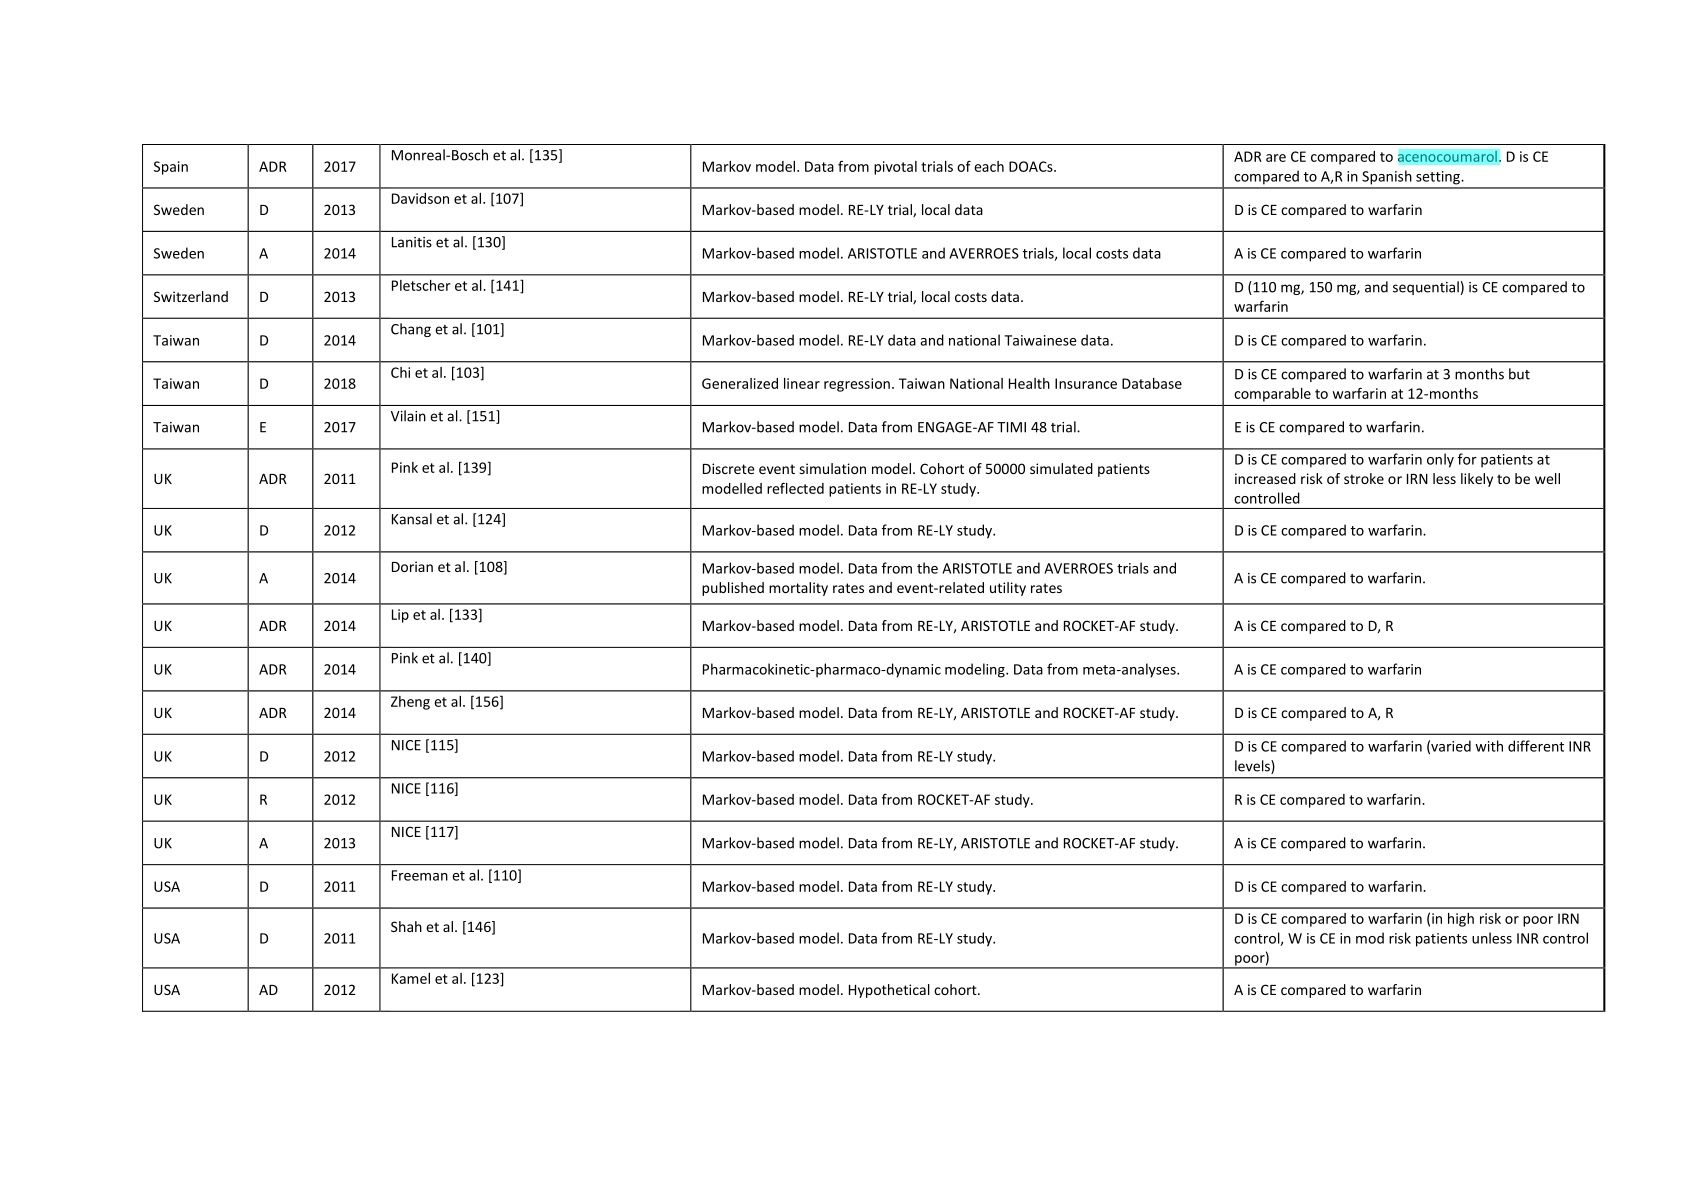full_lined: (140, 143, 1605, 1013)
